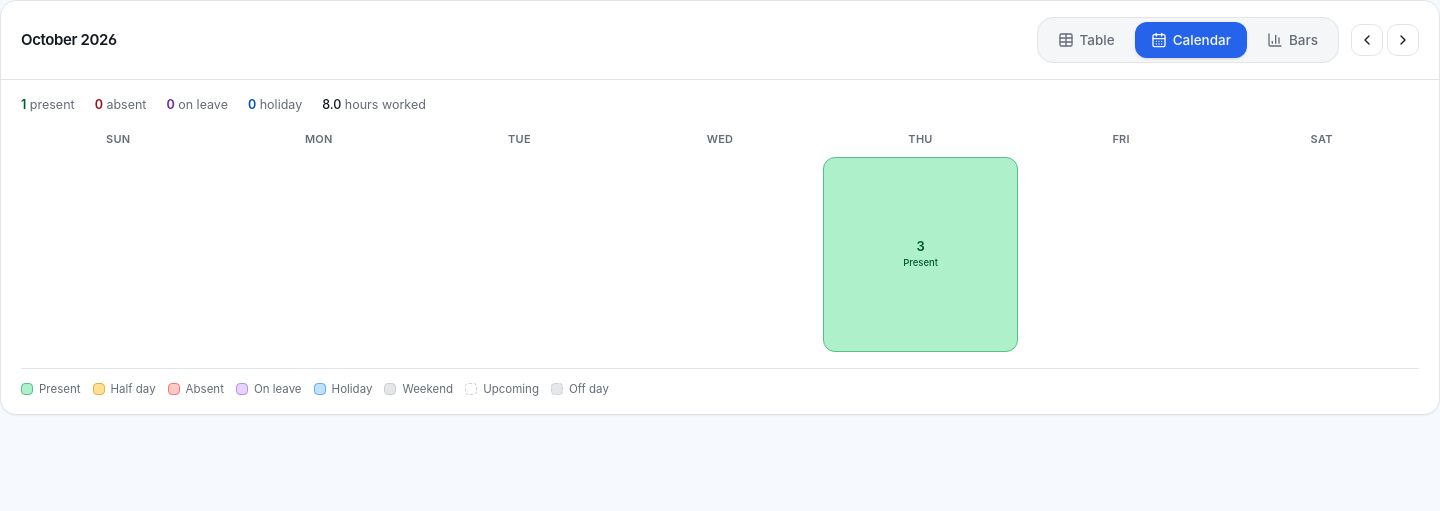
Test case: the bars › labels the y axis in hours and minutes, not in percentages
The image size is (1440, 511).
expect the table named "attendance calendar" is shown: met, box [21, 131, 1419, 352]
Click the button "Bars" at (1292, 40), box [1251, 22, 1334, 58]
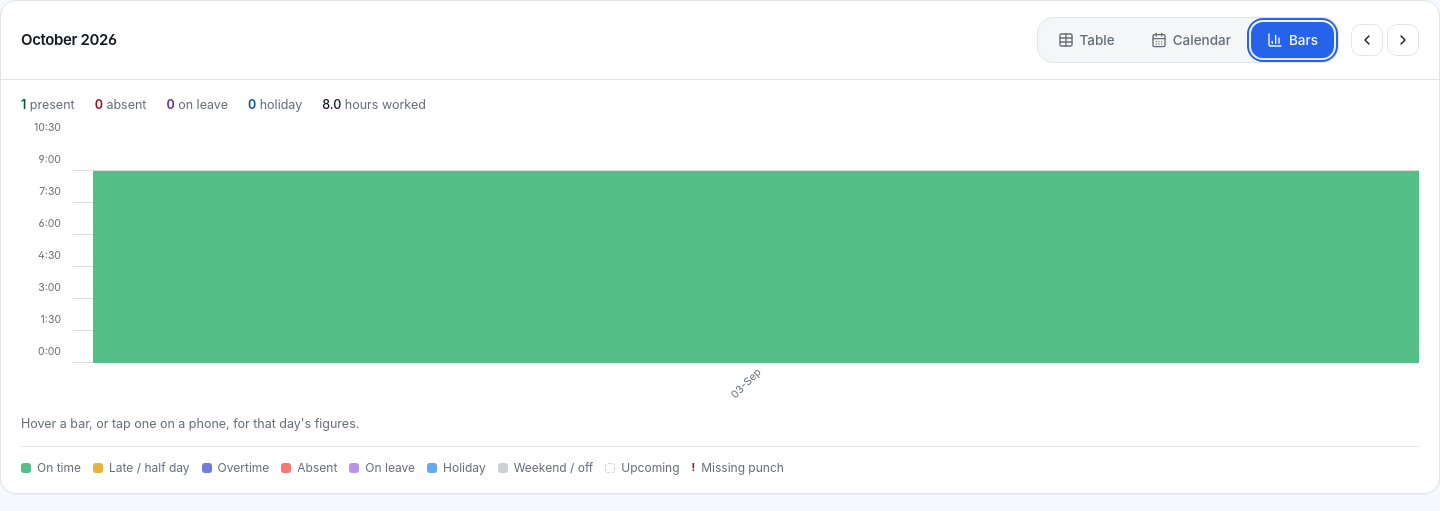
expect the list named "Worked hours per day for Abdul Rehman" is shown: met, box [93, 139, 1419, 363]
